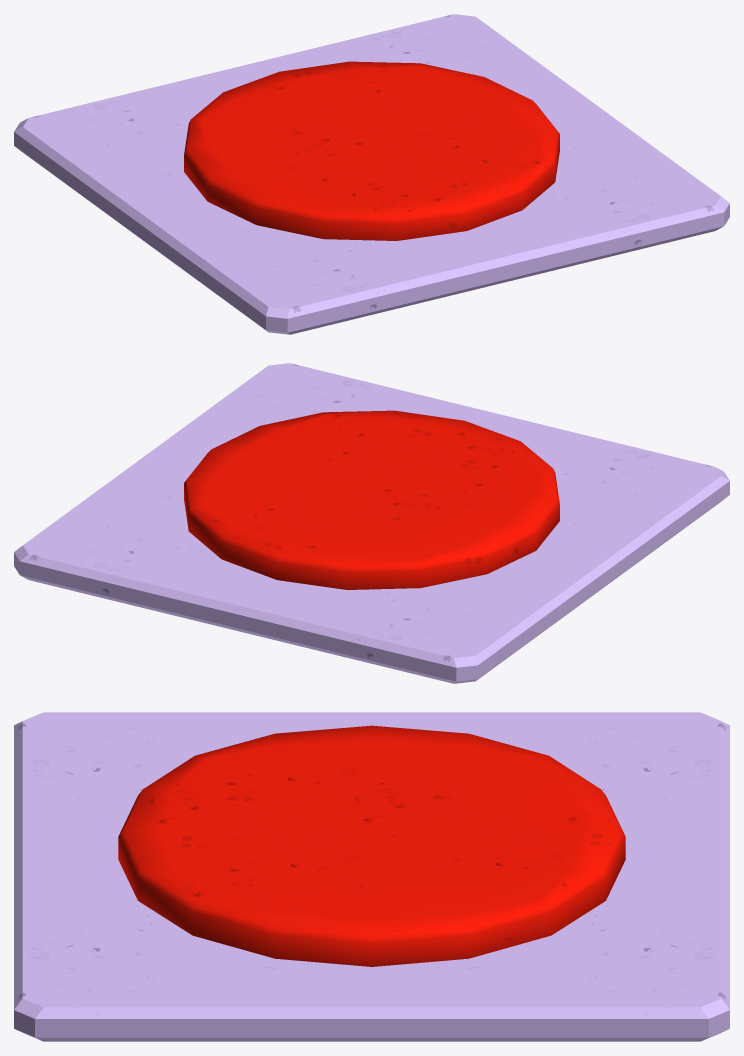
The model's file is button.glb.
The picture shows the model from 3 angles, top to bottom: view 1: azimuth 30°, elevation 25°; view 2: azimuth 150°, elevation 25°; view 3: azimuth 270°, elevation 25°; orthographic projection. The views are drawn at different scales.
Parts seen in each view (by area): view 1: platform_low, Plane.004; view 2: platform_low, Plane.004; view 3: platform_low, Plane.004.
Part boxes in pixels (left/top/right/bottom): platform_low: left=14, top=14, right=729, bottom=334; Plane.004: left=184, top=61, right=559, bottom=240; platform_low: left=14, top=363, right=729, bottom=683; Plane.004: left=184, top=410, right=559, bottom=589; platform_low: left=14, top=712, right=729, bottom=1041; Plane.004: left=118, top=725, right=625, bottom=966.
Size of the model in its own units: 2 by 0.1984 by 2.
Materials: 1 (1 with a texture image).
